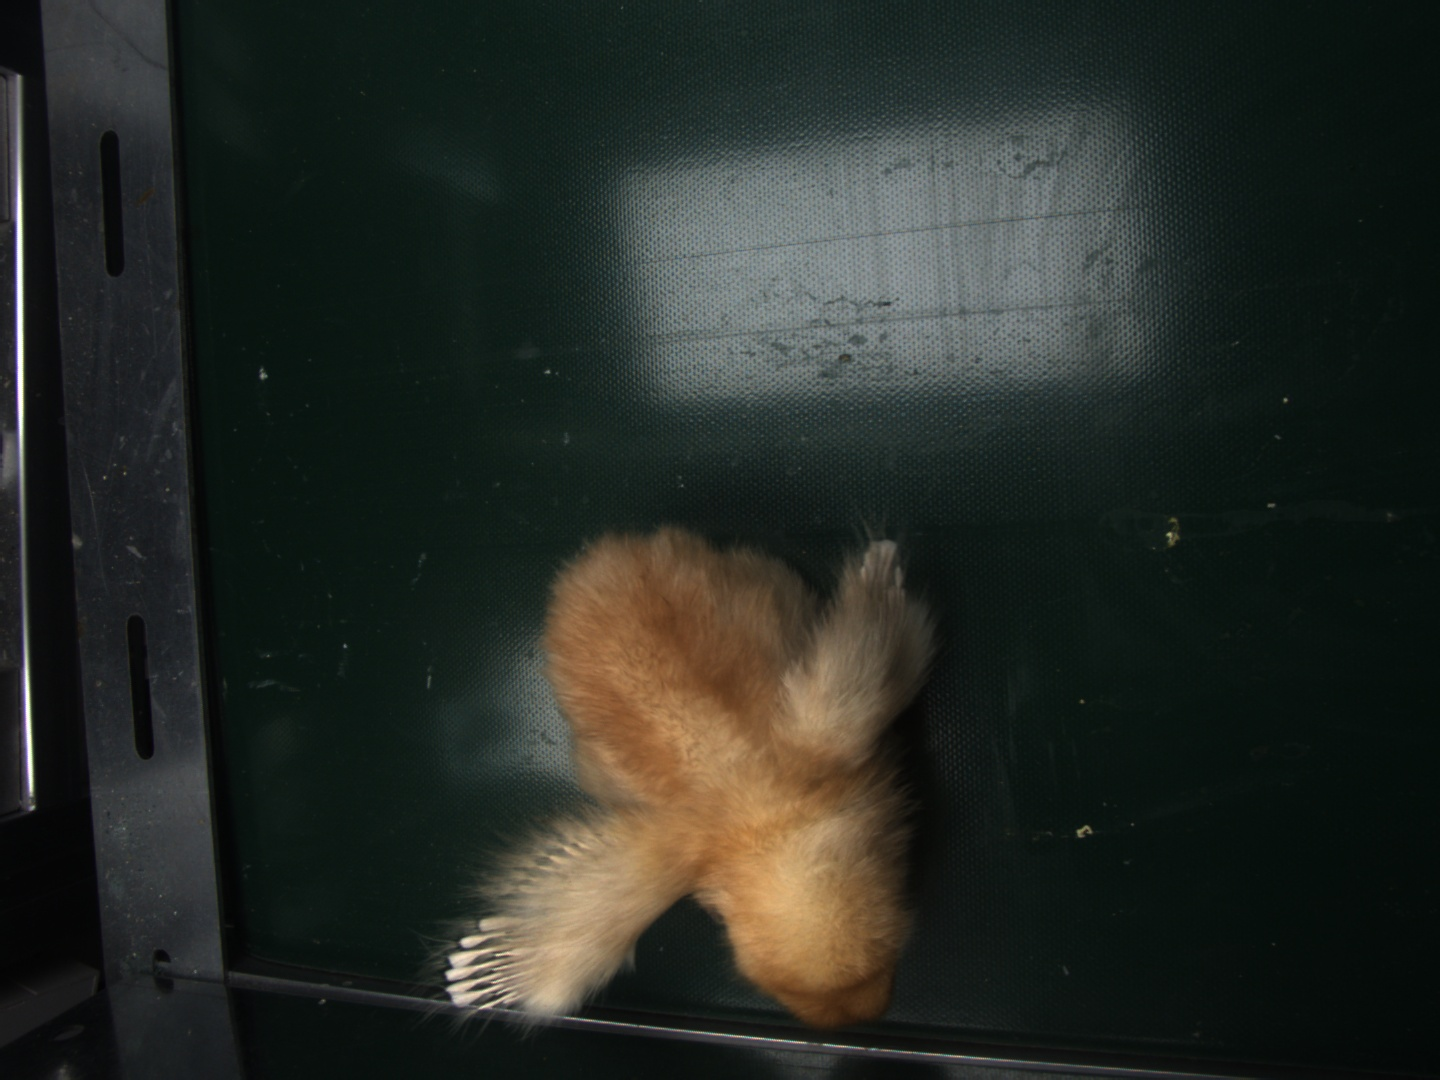female: (447, 923, 530, 1013)
